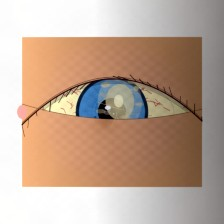corneal_ulcer: (90, 79, 149, 126)
